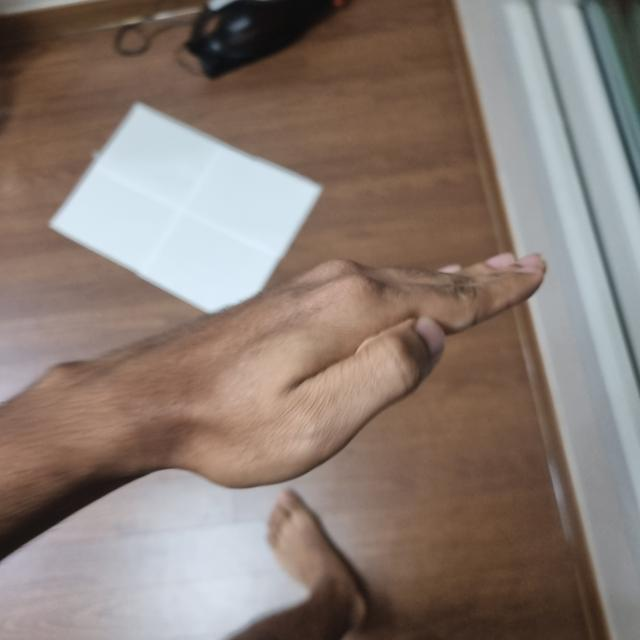Paper: (109, 258, 533, 489)
